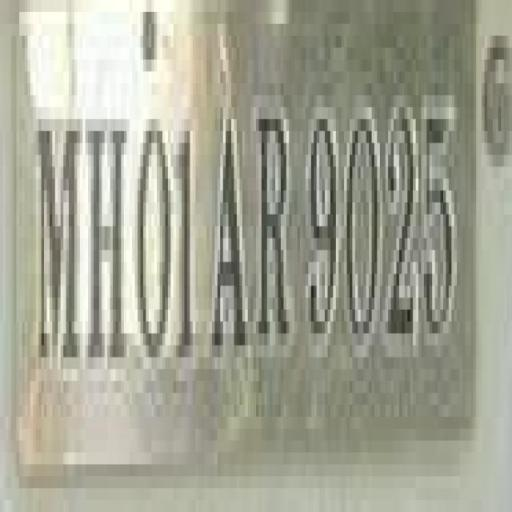number plate: (0, 23, 490, 476)
